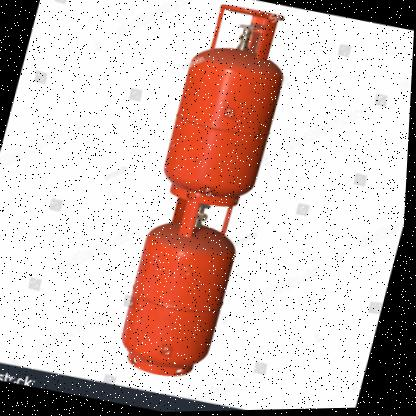gas-tank: (80, 171, 286, 404), (122, 0, 330, 222)
